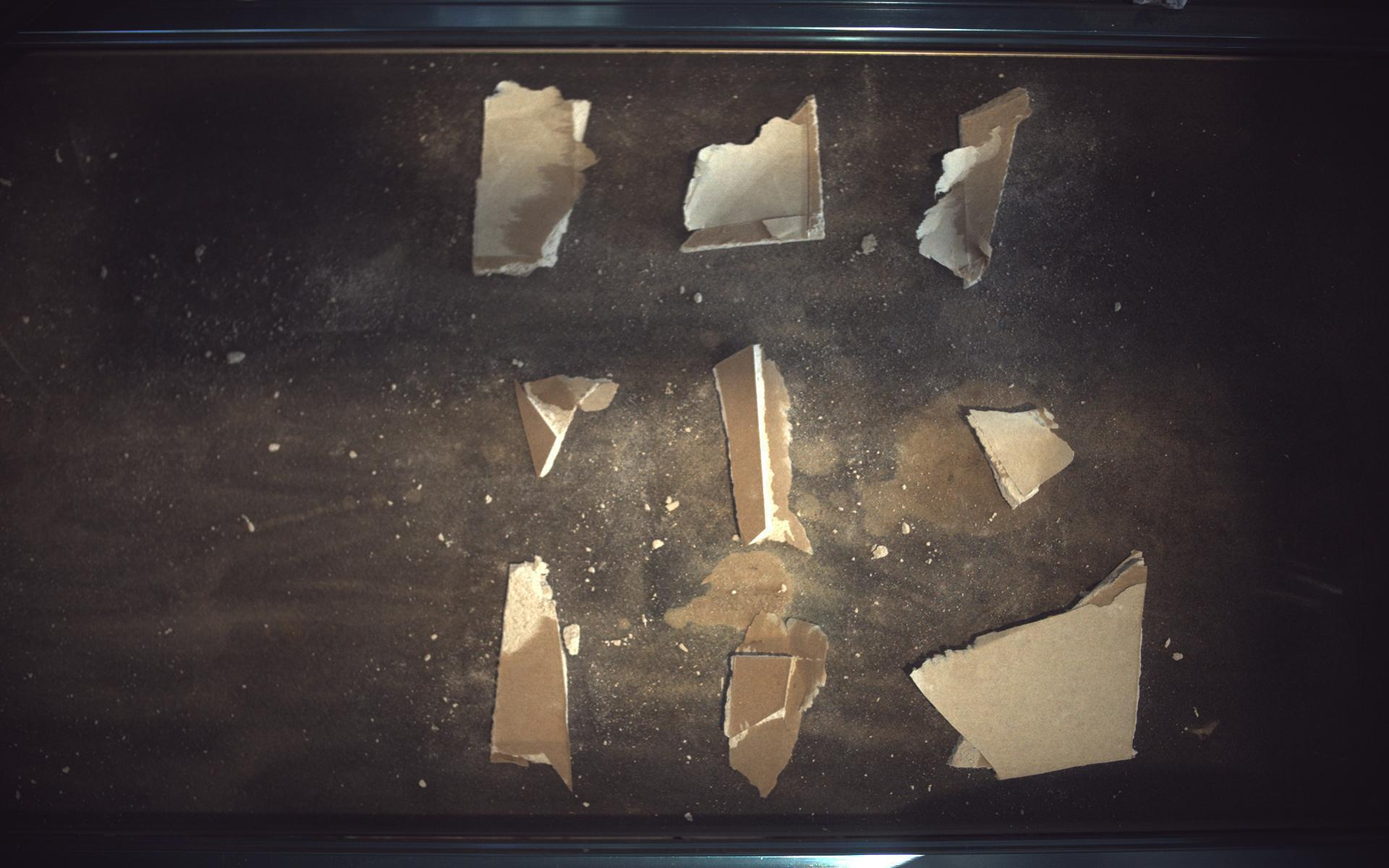gypsum_board: (912, 552, 1150, 780), (472, 80, 598, 275), (918, 87, 1034, 286), (682, 94, 827, 252), (714, 344, 814, 554), (725, 613, 830, 799), (491, 557, 573, 791), (969, 408, 1076, 509), (517, 375, 619, 477)
